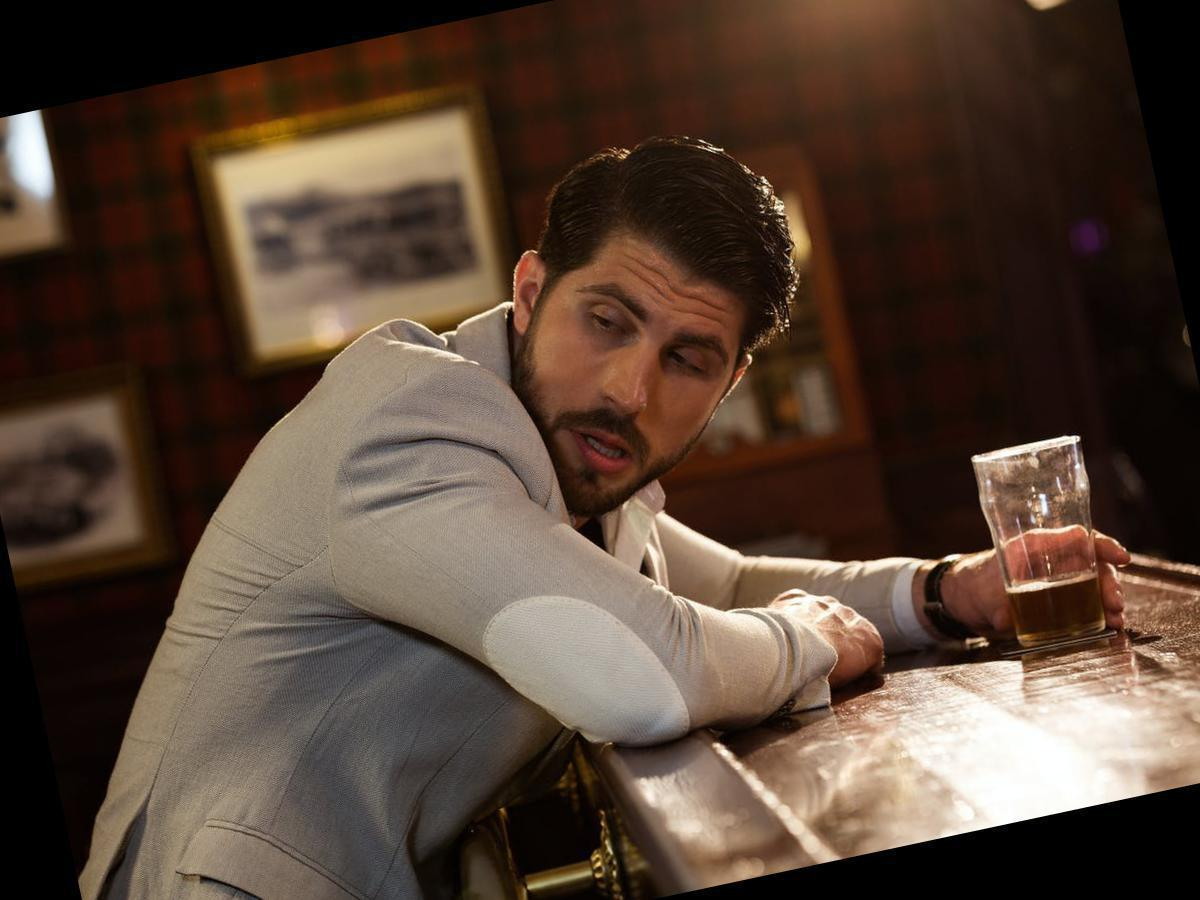Drunk: (535, 256, 740, 512)
